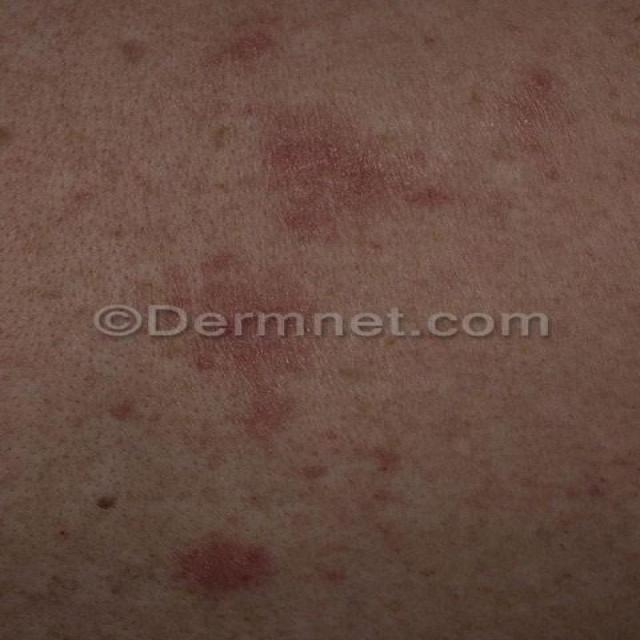Eczema: (203, 42, 560, 242), (178, 268, 314, 426)
